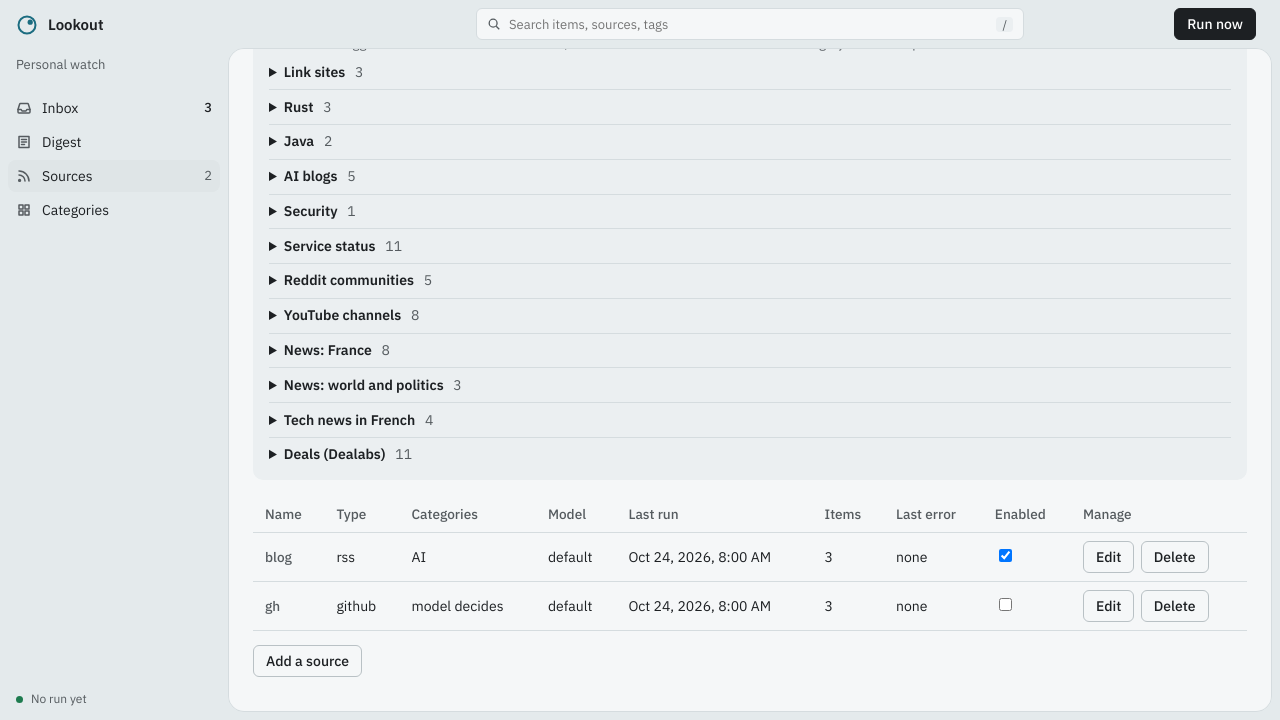
Scenario: sources › sends a number as a number
This screenshot has width=1280, height=720.
(page scrolled)
Click the button "Add a source".
click(308, 661)  # box [253,645,362,677]
(page scrolled)
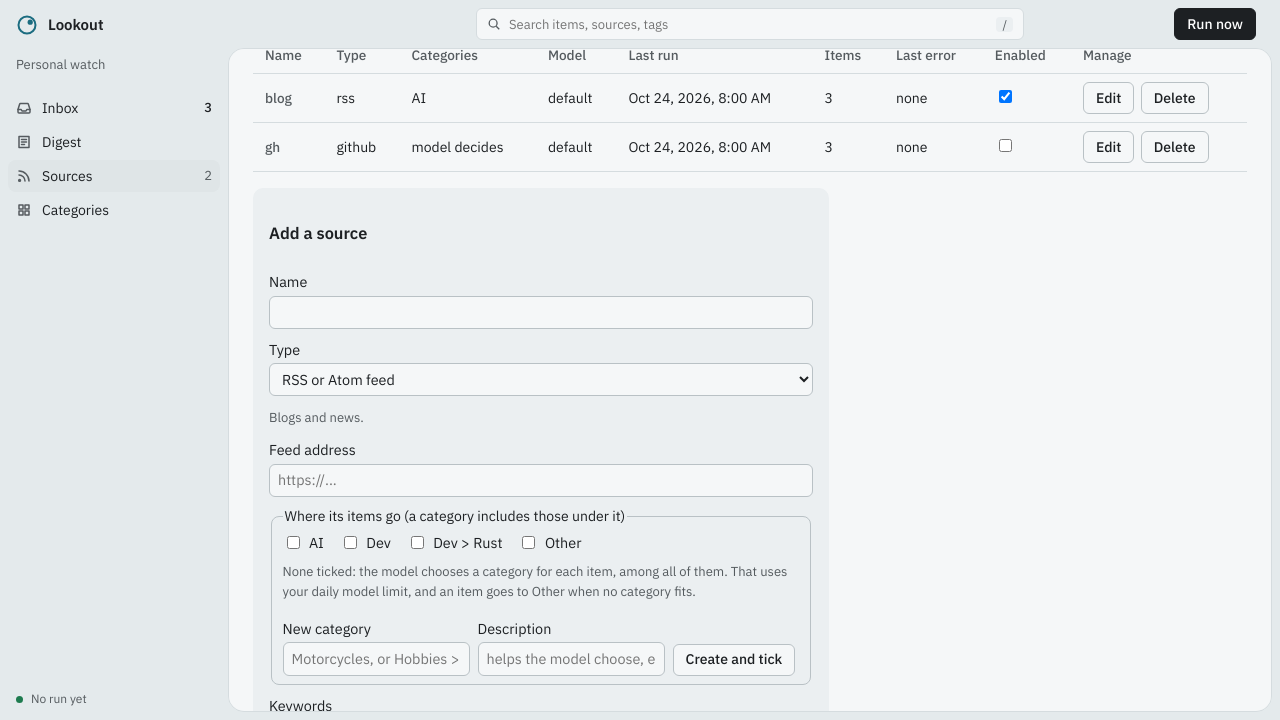
Select "OSV vulnerabilities" in the dropdown labelled "Type" at (541, 380), box [269,363,813,396]
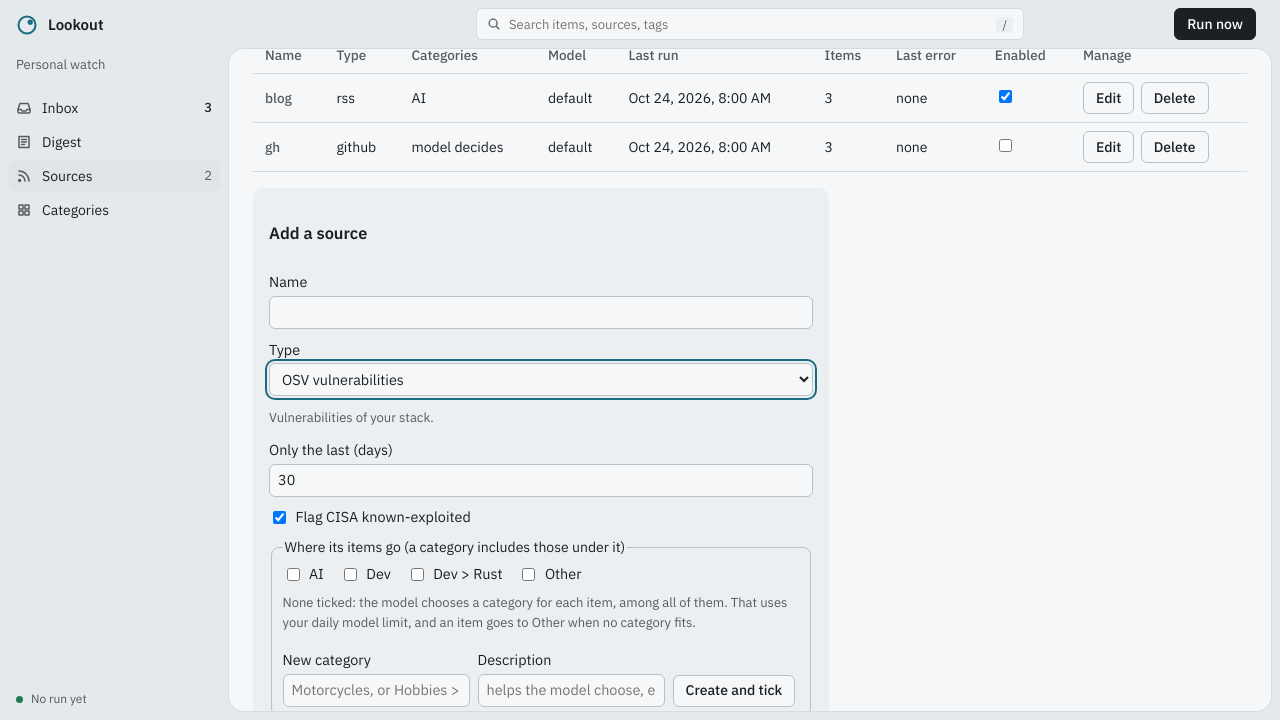
Type "cves" into the field labelled "Name".
click(541, 312); type("cves")  # box [269,296,813,329]
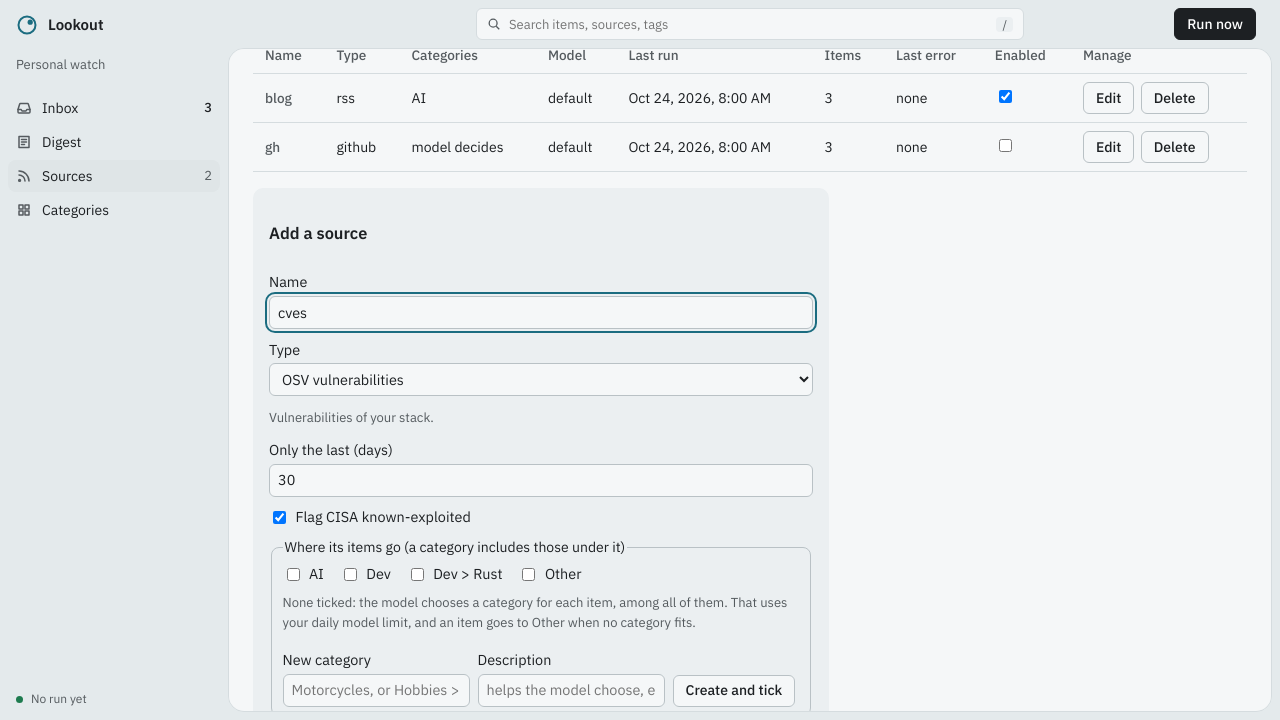
Replace the text in the number field labelled "Only the last (days)" with "7" at (541, 480), box [269,464,813,497]
(page scrolled)
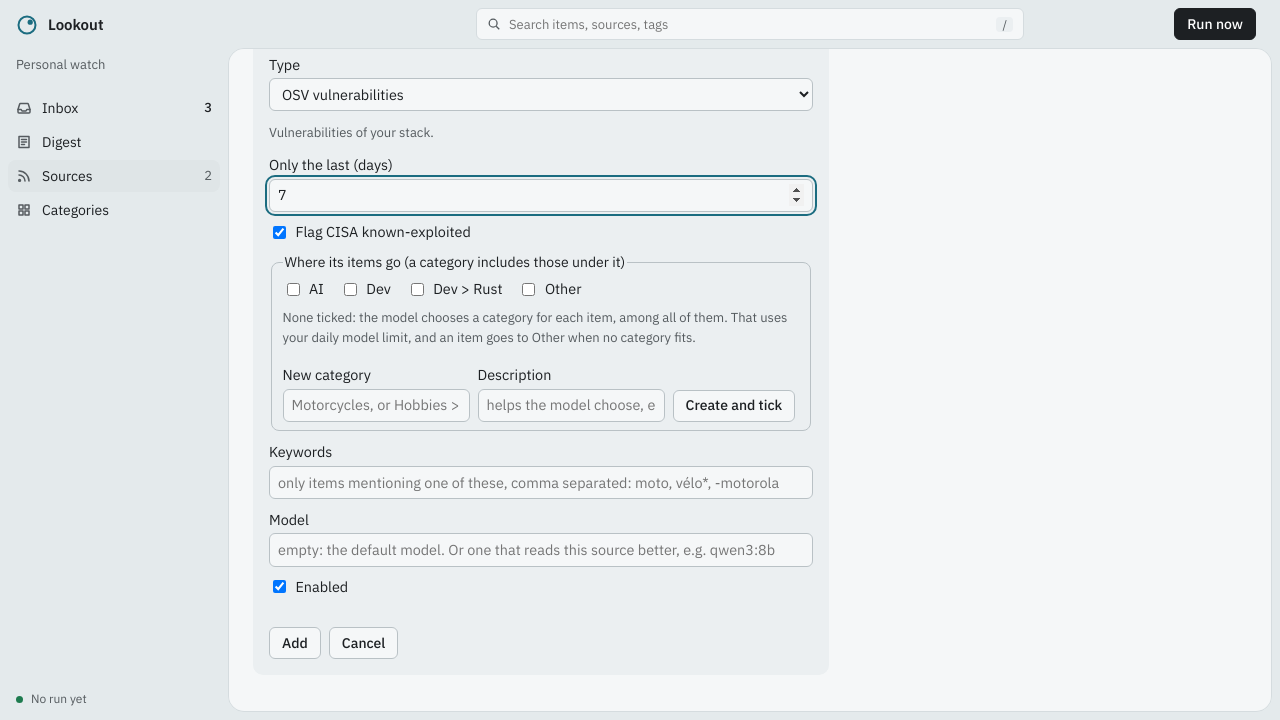
Click the button "Add".
click(295, 643)  # box [269,627,321,659]
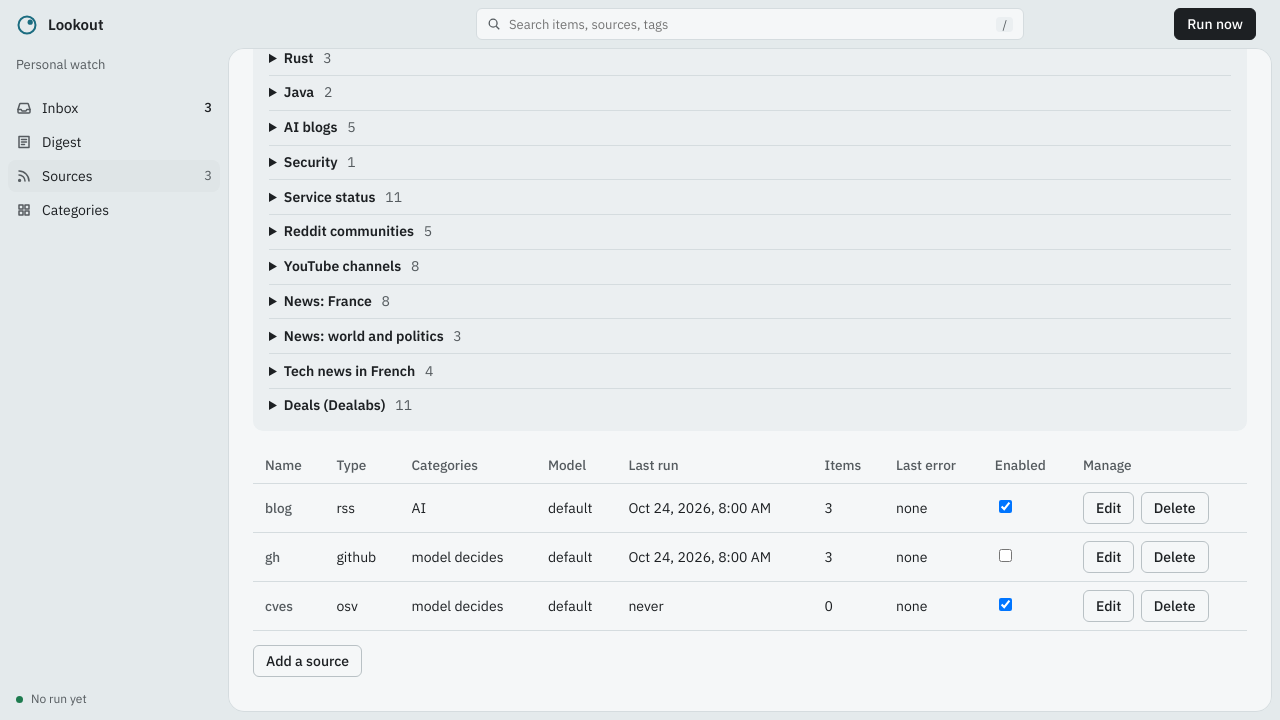
Now the row "cves osv model decides default never 0 none Edit Delete" is shown, box [253,582,1247,631]
